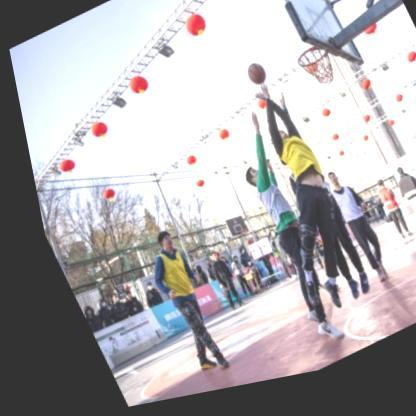basketball: (239, 69, 264, 97)
